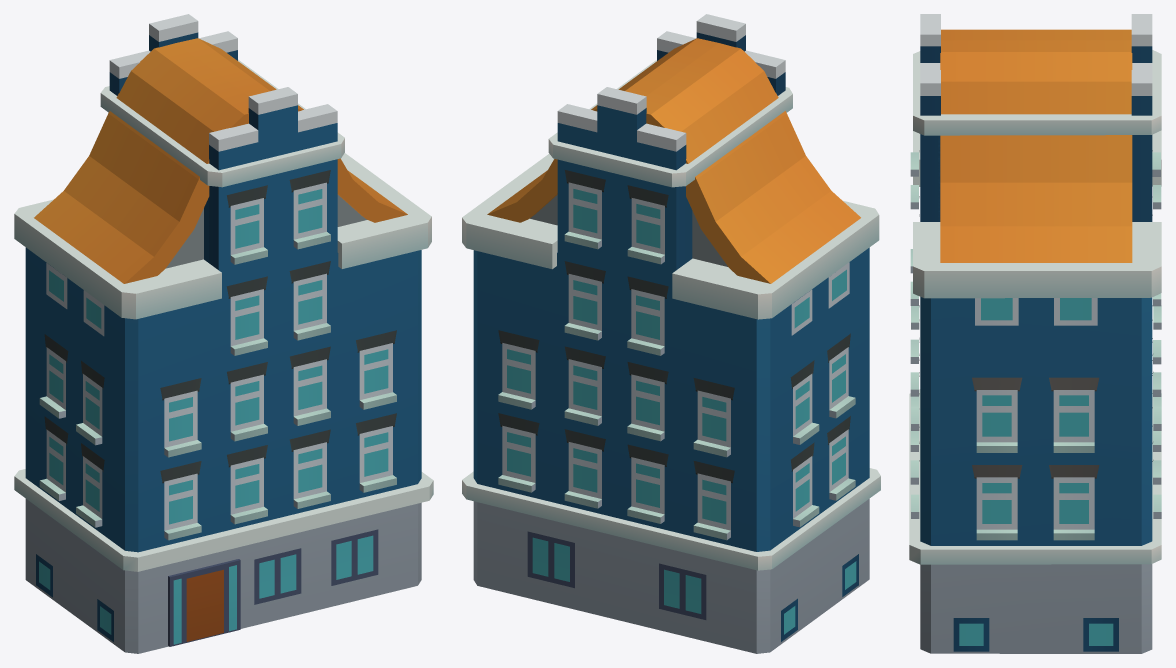
File: Building_cartoon_48.fbx
3 views of the same model, side by side, from view 1: azimuth 30°, elevation 25°; view 2: azimuth 150°, elevation 25°; view 3: azimuth 270°, elevation 25° (orthographic). The views are drawn at different scales.
Visible parts, largest first — view 1: Building_cartoon_48; view 2: Building_cartoon_48; view 3: Building_cartoon_48.
Part boxes in pixels (x1,y1,x2,y2): Building_cartoon_48: (14,14,433,653); Building_cartoon_48: (462,14,880,653); Building_cartoon_48: (909,14,1161,653).
Size of the model in its own units: 1195 by 1908 by 790.
